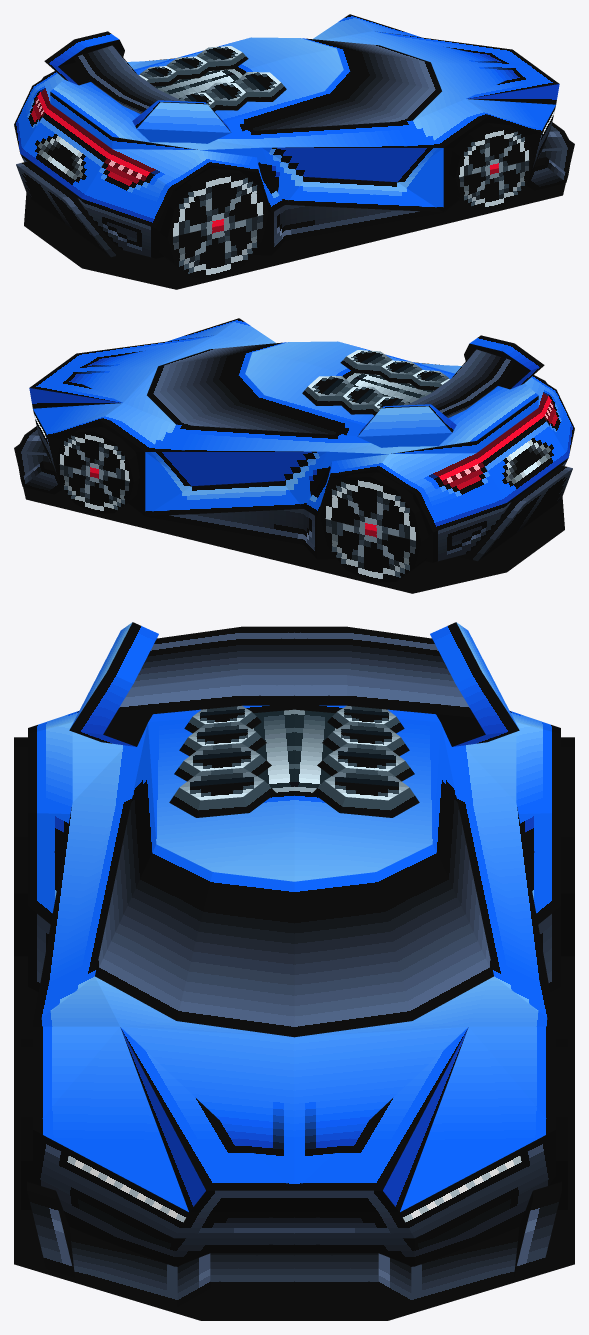
3 renders of one model, top to bottom at view 1: azimuth 30°, elevation 25°; view 2: azimuth 150°, elevation 25°; view 3: azimuth 270°, elevation 25°, orthographic. The views are drawn at different scales.
Visible parts, largest first — view 1: Cube, Plane.002, AVA.001, AVA.004, Cylinder, Cylinder.007, Cube.002, Cube.004, Cube.003; view 2: Cube, Plane.002, AVA.001, AVA.004, Cylinder, Cylinder.007, Cube.002, Cube.004, Cube.003; view 3: Cube, Cube.002, Cube.003, Plane.002, Cylinder.007, Cylinder, AVA.001, AVA.004.
Boxes of the visible parts, x1=… form: Cube: x1=14, y1=14, x2=559, y2=258; Plane.002: x1=24, y1=140, x2=574, y2=289; AVA.001: x1=41, y1=71, x2=268, y2=278; AVA.004: x1=449, y1=123, x2=533, y2=209; Cylinder: x1=44, y1=31, x2=231, y2=143; Cylinder.007: x1=139, y1=46, x2=286, y2=111; Cube.002: x1=73, y1=45, x2=182, y2=113; Cube.004: x1=16, y1=161, x2=130, y2=257; Cube.003: x1=526, y1=122, x2=572, y2=190; Cube: x1=29, y1=318, x2=574, y2=562; Plane.002: x1=14, y1=444, x2=564, y2=593; AVA.001: x1=320, y1=375, x2=547, y2=582; AVA.004: x1=55, y1=427, x2=139, y2=513; Cylinder: x1=357, y1=335, x2=544, y2=447; Cylinder.007: x1=302, y1=350, x2=449, y2=415; Cube.002: x1=406, y1=349, x2=515, y2=417; Cube.004: x1=458, y1=465, x2=572, y2=561; Cube.003: x1=16, y1=426, x2=62, y2=494; Cube: x1=28, y1=705, x2=560, y2=1266; Cube.002: x1=113, y1=626, x2=475, y2=717; Cube.003: x1=27, y1=1182, x2=561, y2=1306; Plane.002: x1=14, y1=956, x2=574, y2=1320; Cylinder.007: x1=169, y1=705, x2=419, y2=817; Cylinder: x1=69, y1=622, x2=519, y2=746; AVA.001: x1=14, y1=737, x2=574, y2=956; AVA.004: x1=21, y1=1039, x2=567, y2=1209.
Bounding box in the file's own units: 11.94 × 3.59 × 6.05.
Materials: 1 (1 with a texture image).
